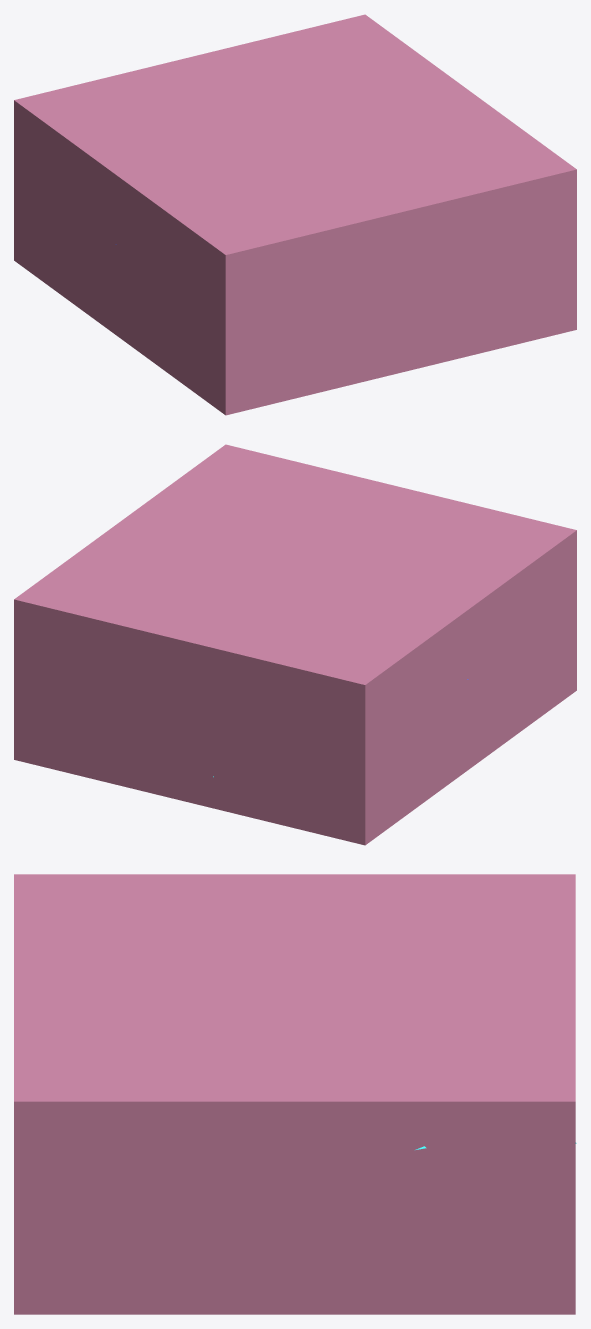
Rendered from lush_big_a.dae.
3 renders of one model, top to bottom at view 1: azimuth 30°, elevation 25°; view 2: azimuth 150°, elevation 25°; view 3: azimuth 270°, elevation 25°, orthographic. The views are drawn at different scales.
Visible parts, largest first — view 1: Untitled; view 2: Untitled; view 3: Untitled.
Part boxes in pixels (x1,y1,x2,y2): Untitled: [14, 14, 576, 415]; Untitled: [14, 444, 576, 845]; Untitled: [14, 874, 575, 1314].
Bounding box in the file's own units: 1.79 × 1.86 × 0.9086.
